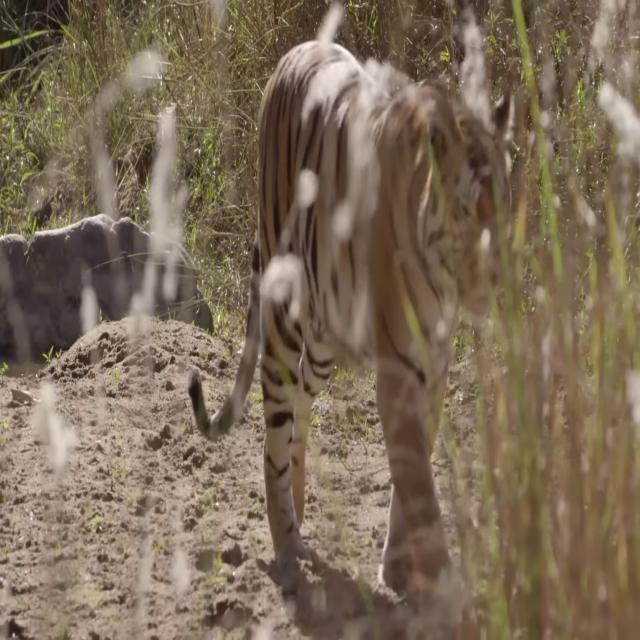tiger: (190, 38, 528, 589)
